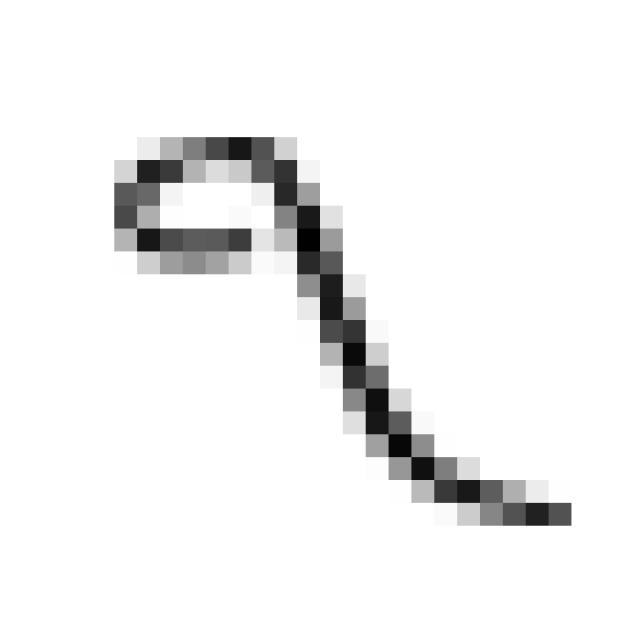9 -nine-: (98, 105, 587, 552)
